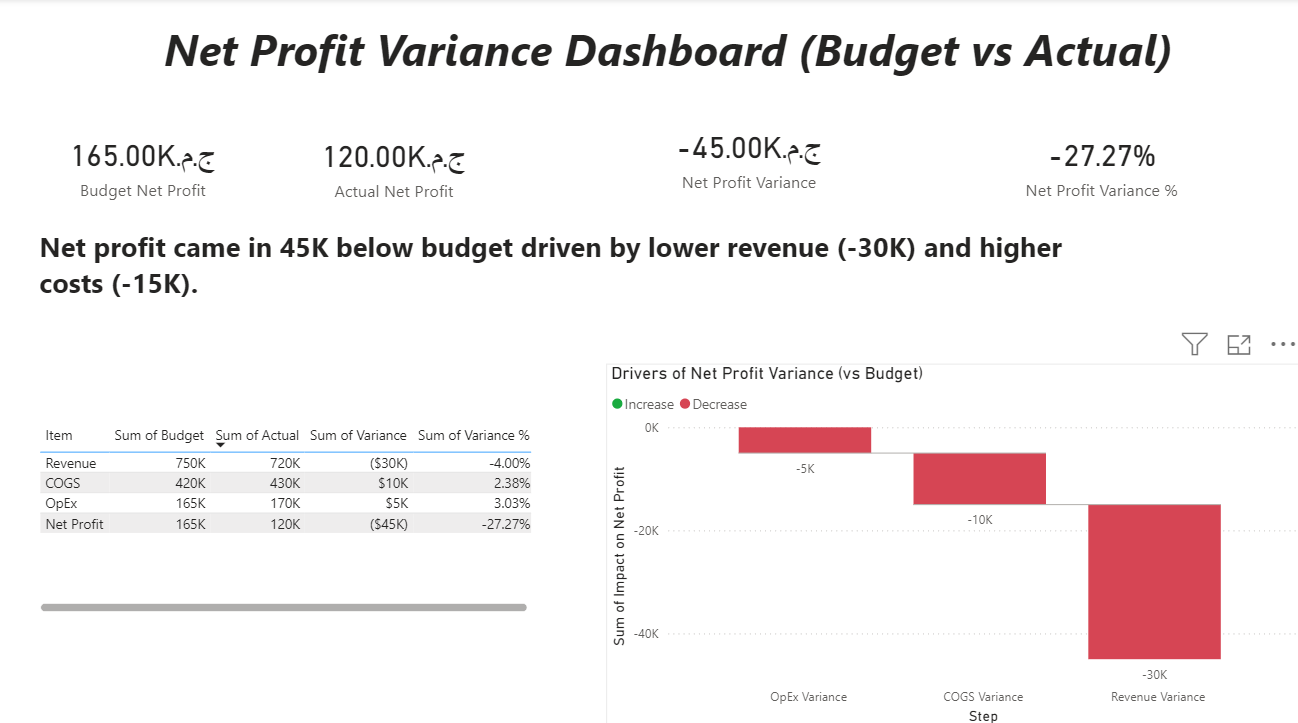

The page's visual inventory and layout, read from the dashboard file:
{"tool":"powerbi","page":{"name":"Page 1","canvas":[1280,720],"ordinal":0},"visuals":[{"type":"card","fields":{"Values":["Bridge.Budget Net Profit"]},"box":[0,73.4,280.8,180.3],"z":0},{"type":"card","fields":{"Values":["Bridge.Net Profit Variance"]},"box":[595.2,73.4,280.8,164.4],"z":1000},{"type":"card","fields":{"Values":["Bridge.Actual Net Profit"]},"box":[247.3,83,279.2,162.8],"z":2000},{"type":"card","fields":{"Values":["Bridge.Net Profit Variance %"]},"box":[952.6,73.4,258.5,180.3],"z":3000},{"type":"waterfallChart","title":"Drivers of Net Profit Variance (vs Budget)","fields":{"Category":["Bridge.Step"],"Y":["Sum(Bridge.Impact on Net Profit)"]},"box":[595.2,359,684.5,359],"z":4000},{"type":"tableEx","fields":{"Values":["Variance.Item","Sum(Variance.Budget)","Sum(Variance.Actual)","Sum(Variance.Variance)","Sum(Variance.Variance %)"]},"box":[33.5,413.3,493.1,194.7],"z":5000},{"type":"textbox","box":[0,539.3,22.3,180.3],"z":5001},{"type":"textbox","box":[33.5,16,1246.2,114.9],"z":5002},{"type":"textbox","box":[33.5,220.2,1081.9,86.2],"z":5003}]}

Visuals, with their boxes in screenshot pixels (x1, y1, x2, y2), scaled from the page's 1280x720 canvas onto the 1298x723 screenshot:
card - Bridge.Budget Net Profit: <bbox>0, 74, 285, 255</bbox>
card - Bridge.Net Profit Variance: <bbox>604, 74, 888, 239</bbox>
card - Bridge.Actual Net Profit: <bbox>251, 83, 534, 247</bbox>
card - Bridge.Net Profit Variance %: <bbox>966, 74, 1228, 255</bbox>
"Drivers of Net Profit Variance (vs Budget)" waterfallChart: <bbox>604, 360, 1297, 721</bbox>
tableEx - Variance.Item x Sum(Variance.Budget): <bbox>34, 415, 534, 611</bbox>
textbox: <bbox>0, 542, 23, 722</bbox>
textbox: <bbox>34, 16, 1297, 131</bbox>
textbox: <bbox>34, 221, 1131, 308</bbox>
